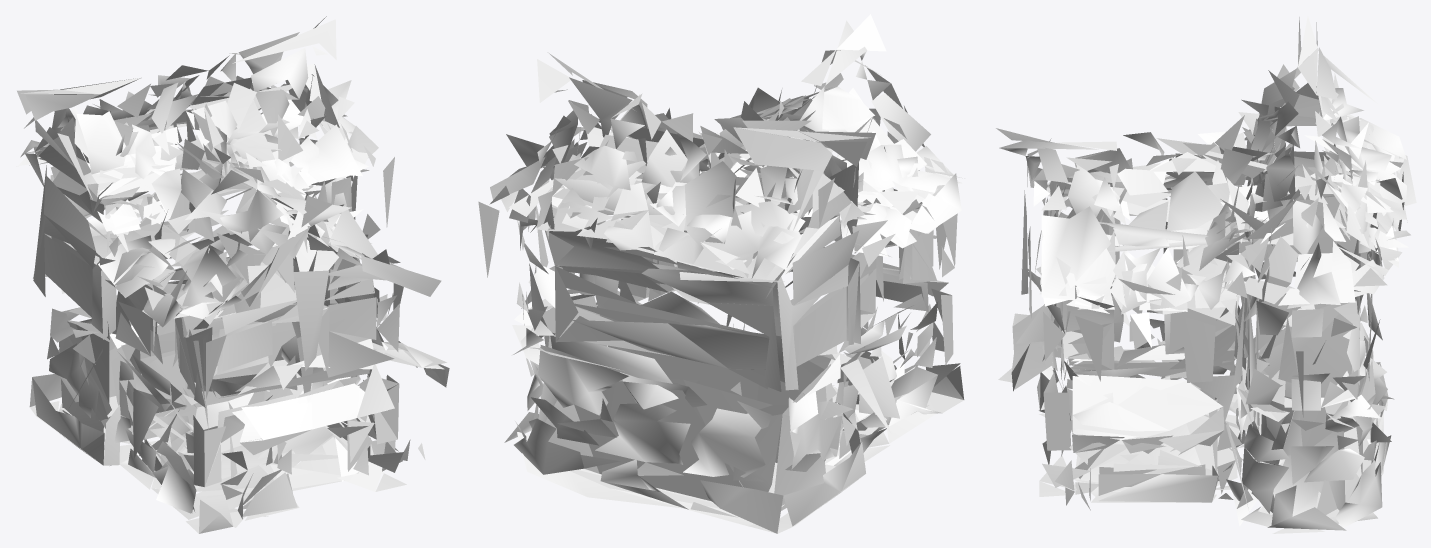
The model's file is house_two_b_lod2.glb.
3 views of the same model, side by side, from view 1: azimuth 30°, elevation 25°; view 2: azimuth 150°, elevation 25°; view 3: azimuth 270°, elevation 25° (orthographic). The views are drawn at different scales.
Visible parts, largest first — view 1: house_two_b; view 2: house_two_b; view 3: house_two_b.
Boxes of the visible parts, x1,y1,x2,y2 form: house_two_b: (16,16,449,533); house_two_b: (478,14,964,533); house_two_b: (996,16,1416,533).
Size of the model in its own units: 10.14 by 9.91 by 9.87.
Materials: 1 (1 with a texture image).
